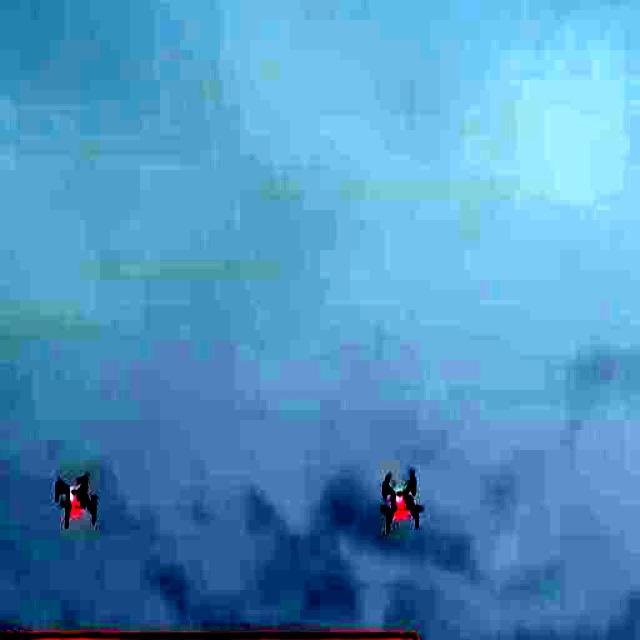bird: (38, 448, 100, 540), (370, 462, 424, 545)
